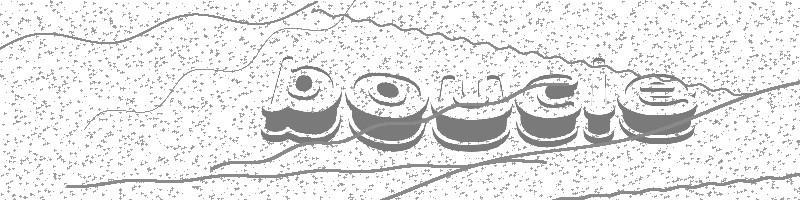b: (261, 51, 344, 148)
c: (514, 71, 587, 147)
e: (618, 71, 704, 148)
i: (580, 55, 619, 145)
o: (345, 65, 433, 143)
u: (430, 64, 512, 152)
